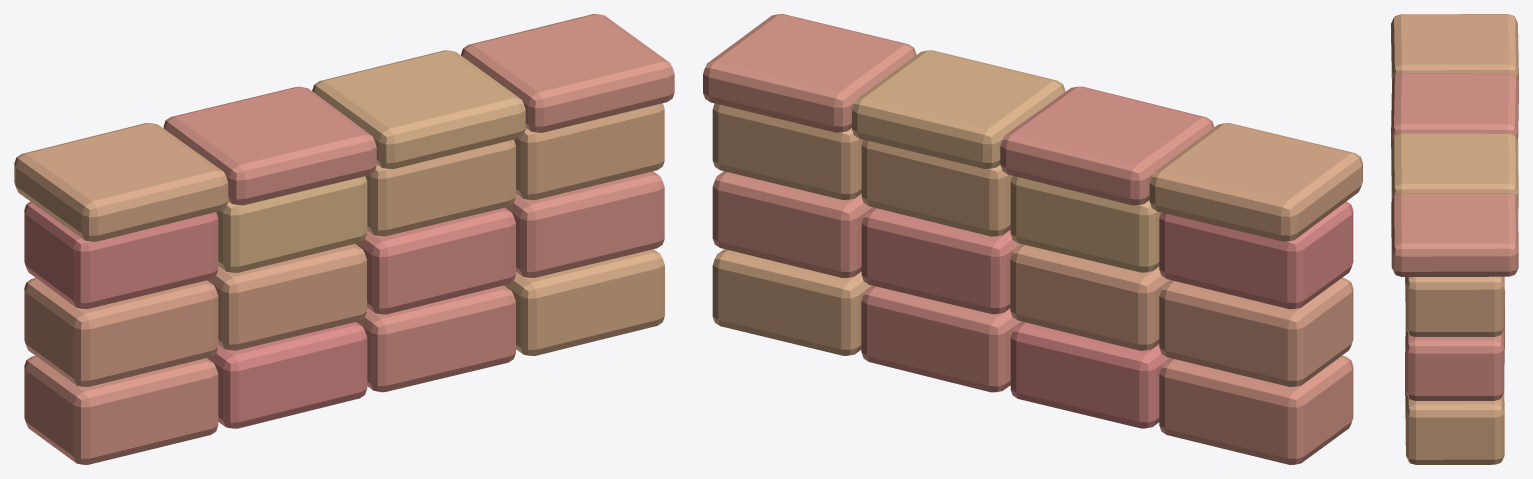
Rendered from WC_RIVER_Bank_Straight_A.glb.
3 renders of one model, left to right at view 1: azimuth 30°, elevation 25°; view 2: azimuth 150°, elevation 25°; view 3: azimuth 270°, elevation 25°, orthographic. The views are drawn at different scales.
Parts seen in each view (by area): view 1: WC_RIVER_Bank_Straight_A_RenderMesh; view 2: WC_RIVER_Bank_Straight_A_RenderMesh; view 3: WC_RIVER_Bank_Straight_A_RenderMesh.
Boxes of the visible parts, bbox=[...] form: WC_RIVER_Bank_Straight_A_RenderMesh: bbox=[14, 14, 674, 464]; WC_RIVER_Bank_Straight_A_RenderMesh: bbox=[703, 14, 1362, 464]; WC_RIVER_Bank_Straight_A_RenderMesh: bbox=[1391, 14, 1518, 464].
Bounding box in the file's own units: 1.99 × 0.8675 × 0.4535.
